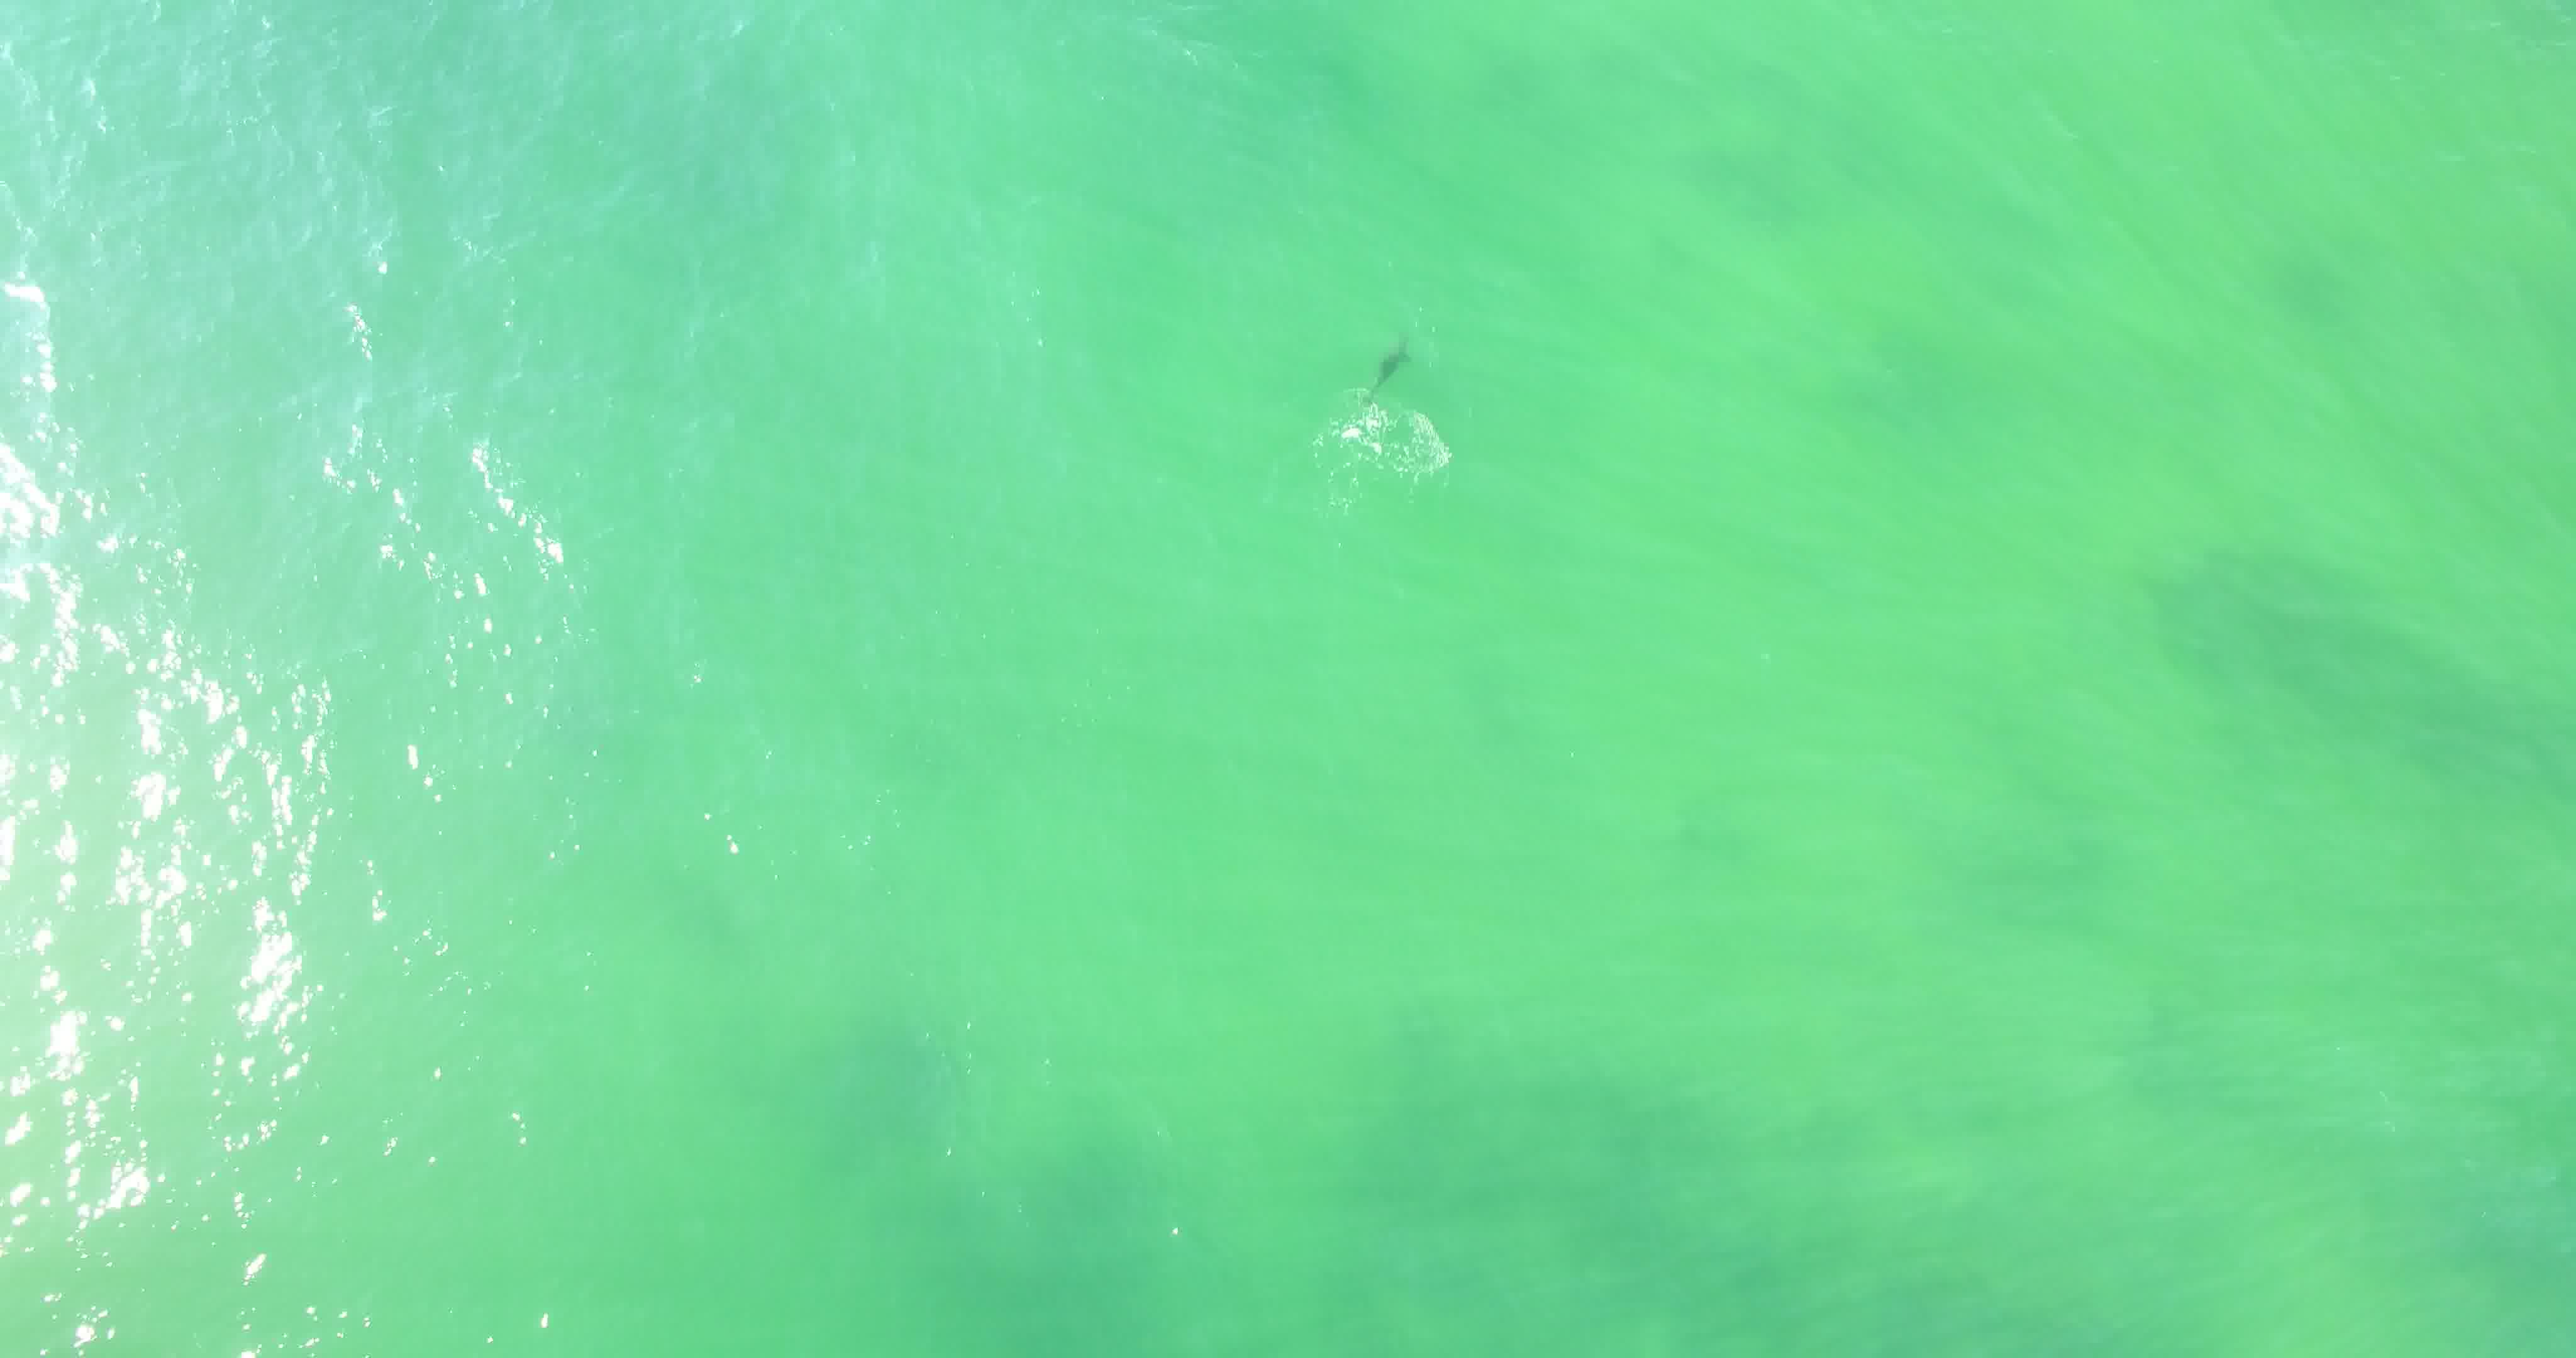dolphin: (1310, 286, 1435, 421)
